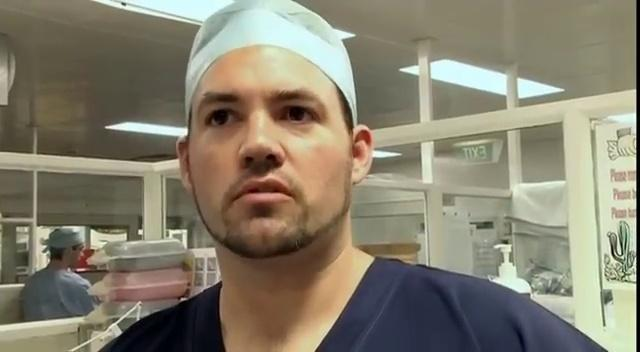others: (83, 0, 612, 352), (14, 222, 106, 326)
